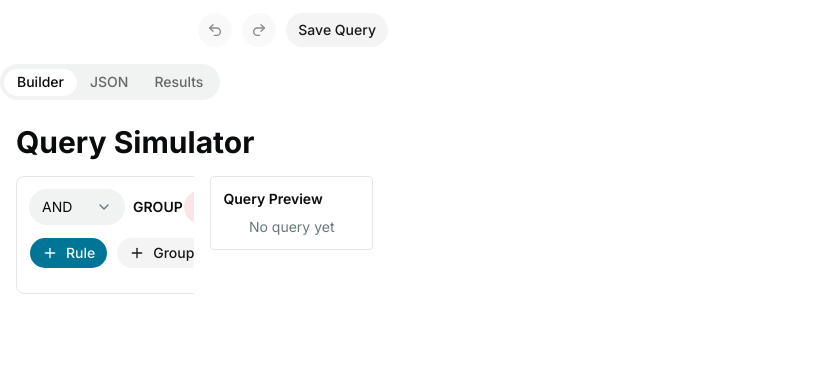
Scenario: Home integration › adds a rule through the builder and updates the preview output
This screenshot has width=828, height=365.
Step 1. Click the button "Rule" → (69, 253), box [29,237,108,269]
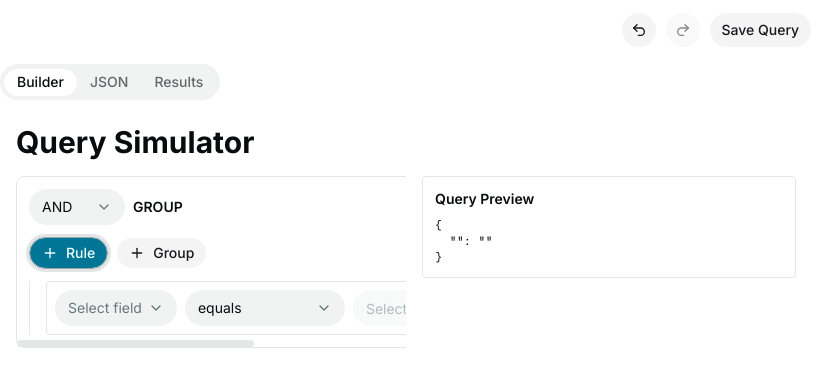
Check: the text "{" shows "\"\": \"\"", box [435,217,493,265]
